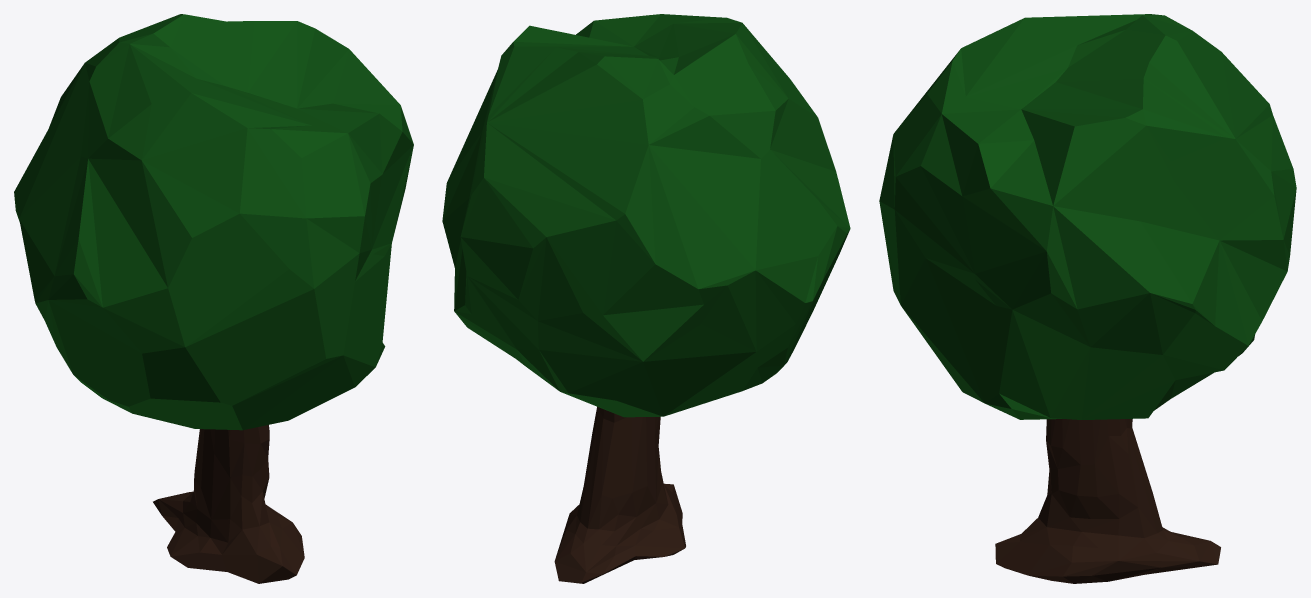
File: SM_tree_07.fbx
3 views of the same model, side by side, from view 1: azimuth 30°, elevation 25°; view 2: azimuth 150°, elevation 25°; view 3: azimuth 270°, elevation 25° (orthographic).
Visible parts, largest first — view 1: tree_07; view 2: tree_07; view 3: tree_07.
Boxes of the visible parts, bbox=[...] form: tree_07: bbox=[14, 14, 413, 583]; tree_07: bbox=[442, 14, 850, 583]; tree_07: bbox=[879, 14, 1296, 583].
Size of the model in its own units: 701 by 991 by 714.
